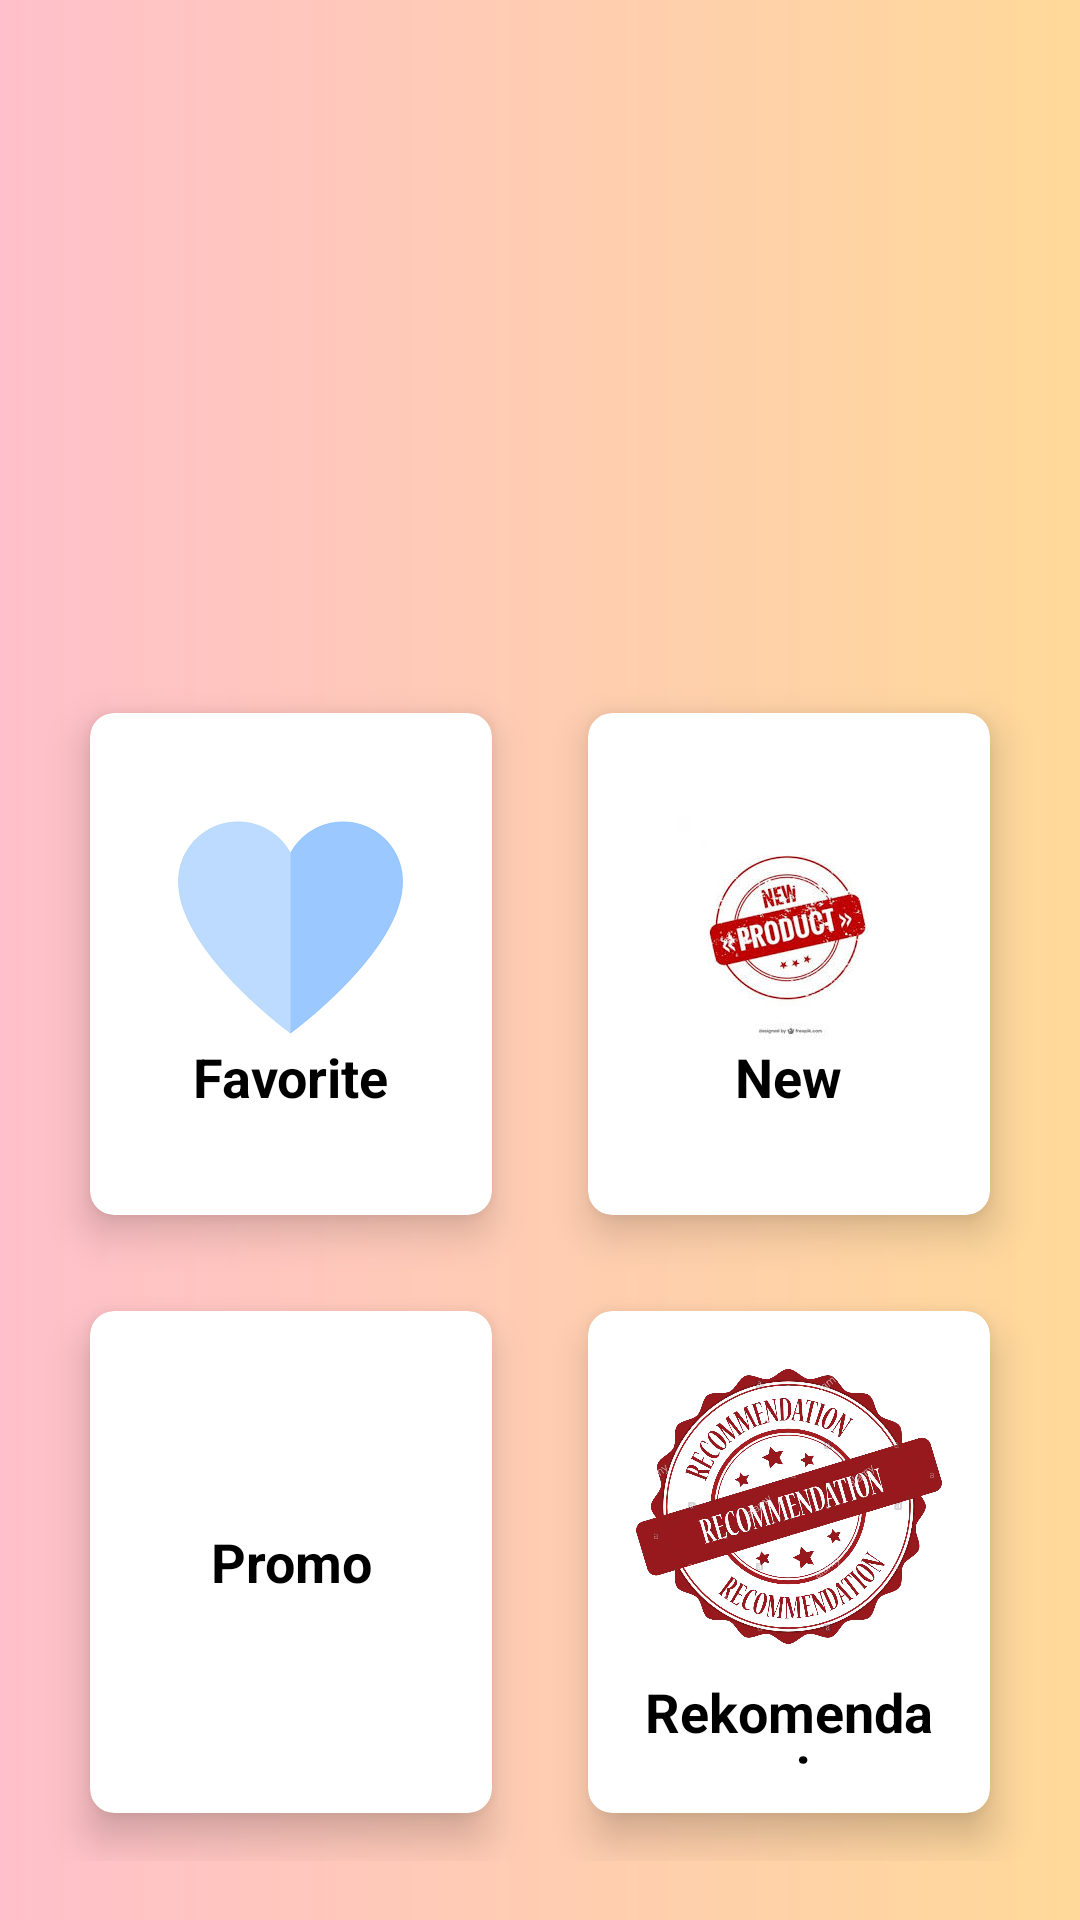

Screen size 1080 × 1920. Icon name, then its center in pixels as [x,y]:
love: [290,927]
